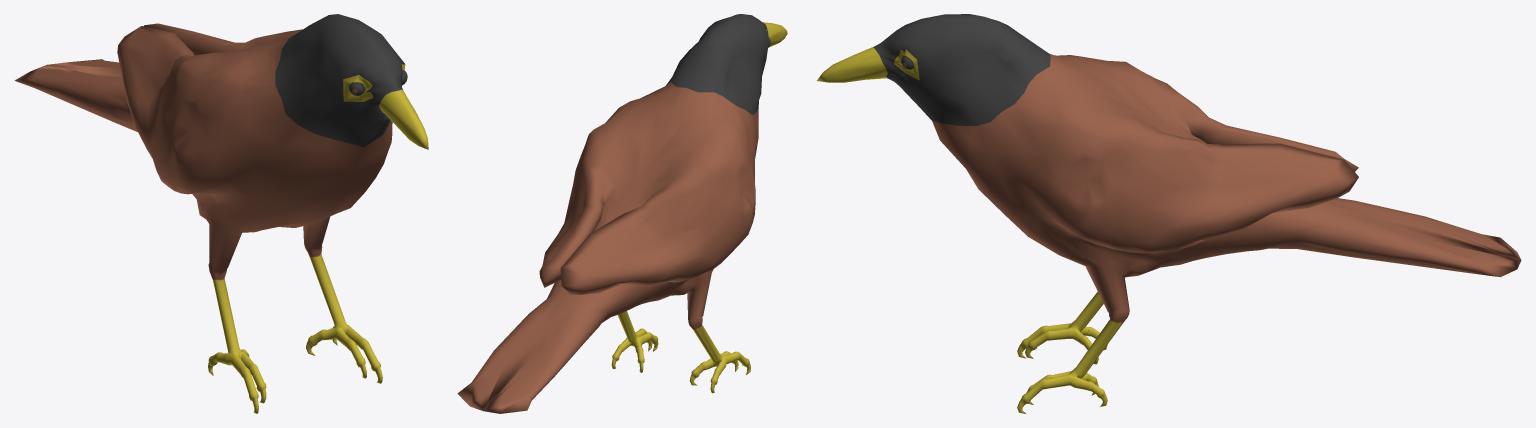
File: myna.gltf
The picture shows the model from 3 angles, left to right: view 1: azimuth 30°, elevation 25°; view 2: azimuth 150°, elevation 25°; view 3: azimuth 270°, elevation 25°; orthographic projection. The views are drawn at different scales.
Visible parts, largest first — view 1: CROW; view 2: CROW; view 3: CROW.
Part boxes in pixels (<box>): CROW: <box>14,14,428,413</box>; CROW: <box>457,14,787,413</box>; CROW: <box>816,14,1521,413</box>.
Size of the model in its own units: 0.2996 by 0.5569 by 0.9606.
